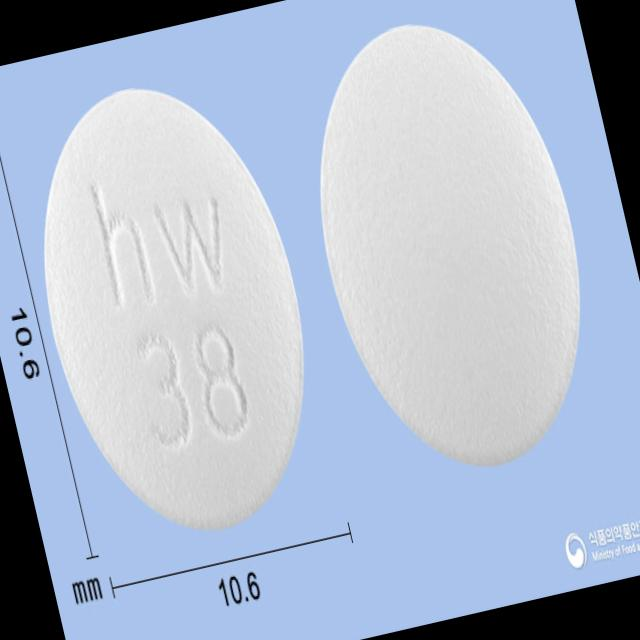Cirokan: (0, 53, 352, 564)
